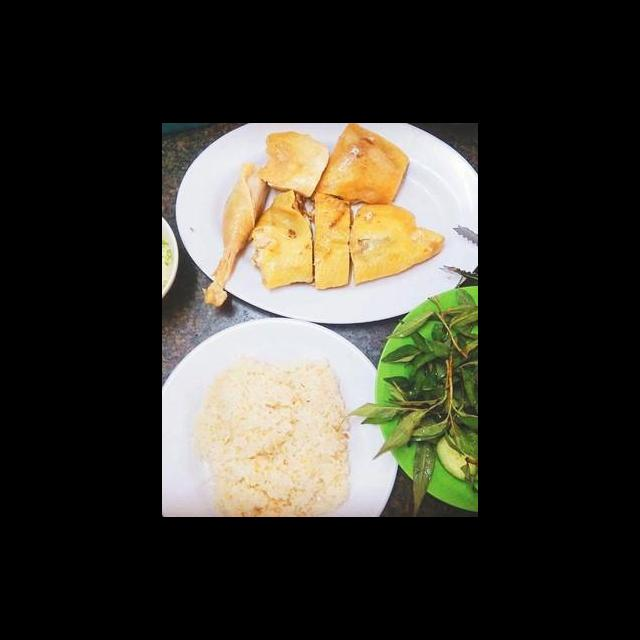com: (189, 352, 355, 517)
com ga: (162, 147, 478, 517)
rau ram: (345, 284, 478, 517)
thit ga: (199, 158, 272, 309), (306, 124, 411, 208), (346, 200, 447, 287), (245, 188, 318, 292), (252, 126, 333, 203), (301, 189, 357, 293)
